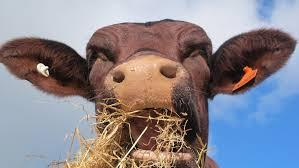cow: (0, 20, 296, 168)
